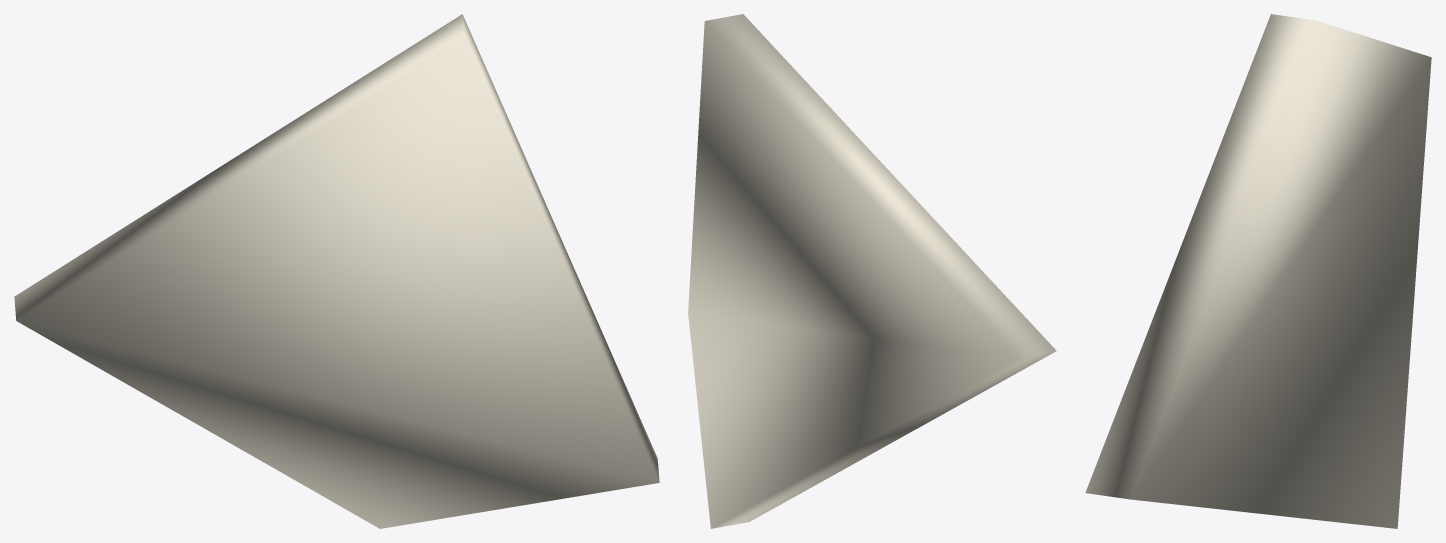
3 renders of one model, left to right at view 1: azimuth 30°, elevation 25°; view 2: azimuth 150°, elevation 25°; view 3: azimuth 270°, elevation 25°, orthographic. The views are drawn at different scales.
Parts seen in each view (by area): view 1: ZA_3664b03d74a5393e; view 2: ZA_3664b03d74a5393e; view 3: ZA_3664b03d74a5393e.
Part boxes in pixels (left/top/right/bottom): ZA_3664b03d74a5393e: left=14, top=14, right=659, bottom=528; ZA_3664b03d74a5393e: left=688, top=14, right=1056, bottom=528; ZA_3664b03d74a5393e: left=1085, top=14, right=1431, bottom=528.
Size of the model in its own units: 0.00608 by 0.00572 by 0.00336.
